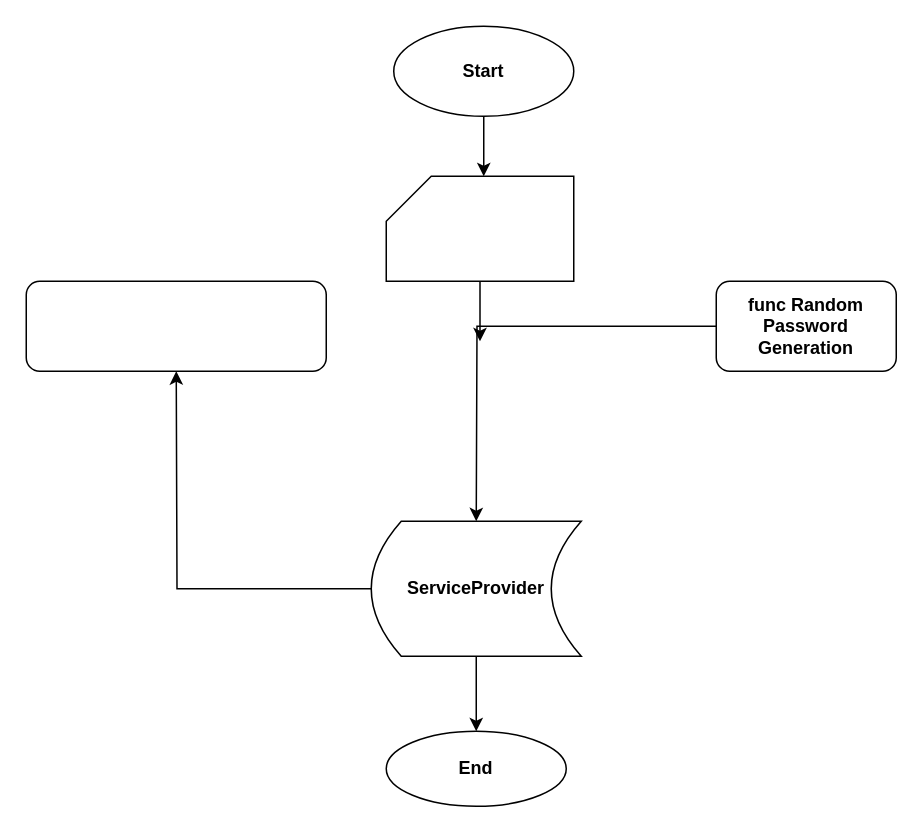
The diagram is 923 pixels wide and 833 high, and some of its shapes have lost their labels. The shapes that lost their labels are listed below. From the top down, each one's centre as x and y in pixels, then its label:
(479,228): Username Password Role
(175,325): func SendCredentialsToSpEmail
